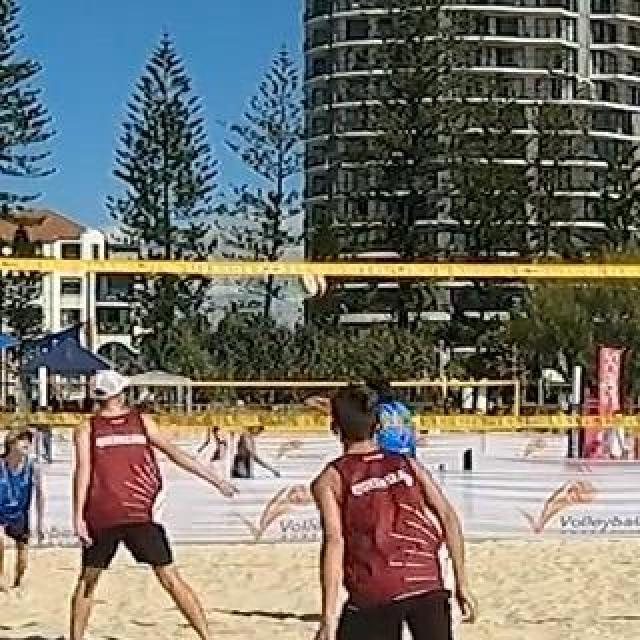volleyball: (302, 274, 326, 298)
